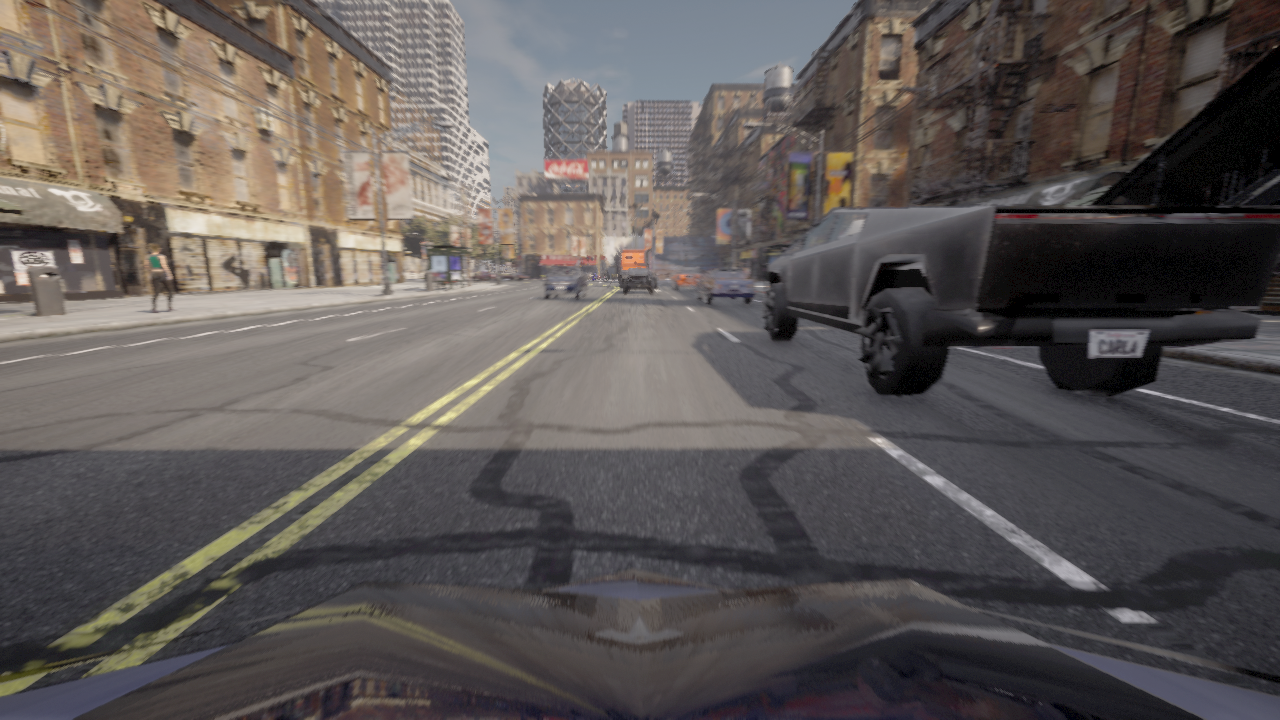cyclist: (0, 569, 1279, 719), (761, 206, 1279, 396), (695, 269, 756, 303), (617, 248, 659, 287), (544, 266, 587, 299), (622, 268, 656, 293), (671, 266, 703, 290), (472, 272, 497, 280), (500, 273, 527, 280), (592, 272, 597, 279), (597, 272, 601, 280), (603, 273, 607, 280)
pedestrian: (145, 243, 177, 313), (738, 265, 742, 270)
